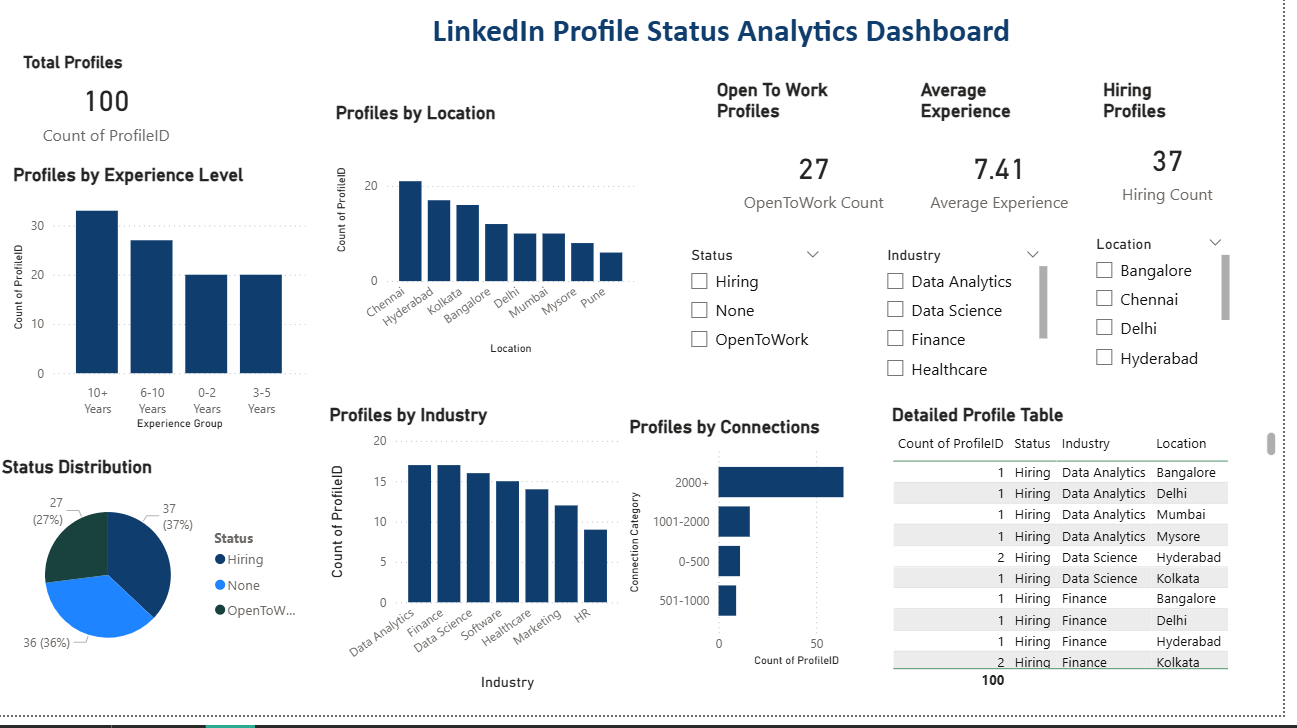

What the dashboard file says about the page in this screenshot:
{"tool":"powerbi","page":{"name":"Page 1","canvas":[1280,720],"ordinal":0},"visuals":[{"type":"card","title":"Total Profiles ","fields":{"Values":["CountNonNull(LinkedInProfiles.ProfileID)"]},"box":[21.1,59.7,175.4,94.5],"z":0},{"type":"pieChart","title":"Status Distribution ","fields":{"Category":["LinkedInProfiles.Status"],"Y":["CountNonNull(LinkedInProfiles.ProfileID)"]},"box":[0,461.5,312.2,215.2],"z":1000},{"type":"lineClusteredColumnComboChart","title":"Profiles by Industry","fields":{"Category":["LinkedInProfiles.Industry"],"Y":["CountNonNull(LinkedInProfiles.ProfileID)"]},"box":[325.9,410.5,298.6,289.8],"z":2000},{"type":"lineClusteredColumnComboChart","title":"Profiles by Location","fields":{"Category":["LinkedInProfiles.Location"],"Y":["CountNonNull(LinkedInProfiles.ProfileID)"]},"box":[332.1,109.5,307.3,256.3],"z":3000},{"type":"card","title":"Open To Work Profiles","fields":{"Values":["LinkedInProfiles.OpenToWork Count"]},"box":[711.5,87.1,202.8,150.5],"z":4000},{"type":"card","title":"Hiring Profiles","fields":{"Values":["LinkedInProfiles.Hiring Count"]},"box":[1095.9,87.1,138.1,134.3],"z":5000},{"type":"card","title":"Average Experience","fields":{"Values":["LinkedInProfiles.Average Experience"]},"box":[914.3,87.1,166.7,150.5],"z":6000},{"type":"slicer","fields":{"Values":["LinkedInProfiles.Status"]},"box":[678,248.8,153,115.7],"z":7000},{"type":"slicer","fields":{"Values":["LinkedInProfiles.Industry"]},"box":[873.3,248.8,176.6,150.5],"z":8000},{"type":"textbox","box":[370.7,13.7,660.5,54.7],"z":9000},{"type":"clusteredColumnChart","title":"Profiles by Experience Level","fields":{"Category":["LinkedInProfiles.Experience Group"],"Y":["CountNonNull(LinkedInProfiles.ProfileID)"]},"box":[11.2,171.7,301,268.7],"z":10000},{"type":"clusteredBarChart","title":"Profiles by Connections","fields":{"Category":["LinkedInProfiles.Connection Category"],"Y":["CountNonNull(LinkedInProfiles.ProfileID)"]},"box":[624.5,421.7,261.2,255],"z":11000},{"type":"slicer","fields":{"Values":["LinkedInProfiles.Location"]},"box":[1081,237.6,150.5,151.8],"z":12000},{"type":"tableEx","title":"Detailed Profile Table ","fields":{"Values":["CountNonNull(LinkedInProfiles.ProfileID)","LinkedInProfiles.Status","LinkedInProfiles.Industry","LinkedInProfiles.Location"]},"box":[885.7,410.5,391.8,288.6],"z":12001}]}

Visuals, with their boxes in screenshot pixels (x1, y1, x2, y2), scaled from the page's 1280x720 canvas onto the 1297x728 screenshot:
"Total Profiles " card: x1=21, y1=60, x2=199, y2=156
"Status Distribution " pieChart: x1=0, y1=467, x2=316, y2=684
"Profiles by Industry" lineClusteredColumnComboChart: x1=330, y1=415, x2=633, y2=708
"Profiles by Location" lineClusteredColumnComboChart: x1=337, y1=111, x2=648, y2=370
"Open To Work Profiles" card: x1=721, y1=88, x2=926, y2=240
"Hiring Profiles" card: x1=1110, y1=88, x2=1250, y2=224
"Average Experience" card: x1=926, y1=88, x2=1095, y2=240
slicer - LinkedInProfiles.Status: x1=687, y1=252, x2=842, y2=369
slicer - LinkedInProfiles.Industry: x1=885, y1=252, x2=1064, y2=404
textbox: x1=376, y1=14, x2=1045, y2=69
"Profiles by Experience Level" clusteredColumnChart: x1=11, y1=174, x2=316, y2=445
"Profiles by Connections" clusteredBarChart: x1=633, y1=426, x2=897, y2=684
slicer - LinkedInProfiles.Location: x1=1095, y1=240, x2=1248, y2=394
"Detailed Profile Table " tableEx: x1=897, y1=415, x2=1294, y2=707
